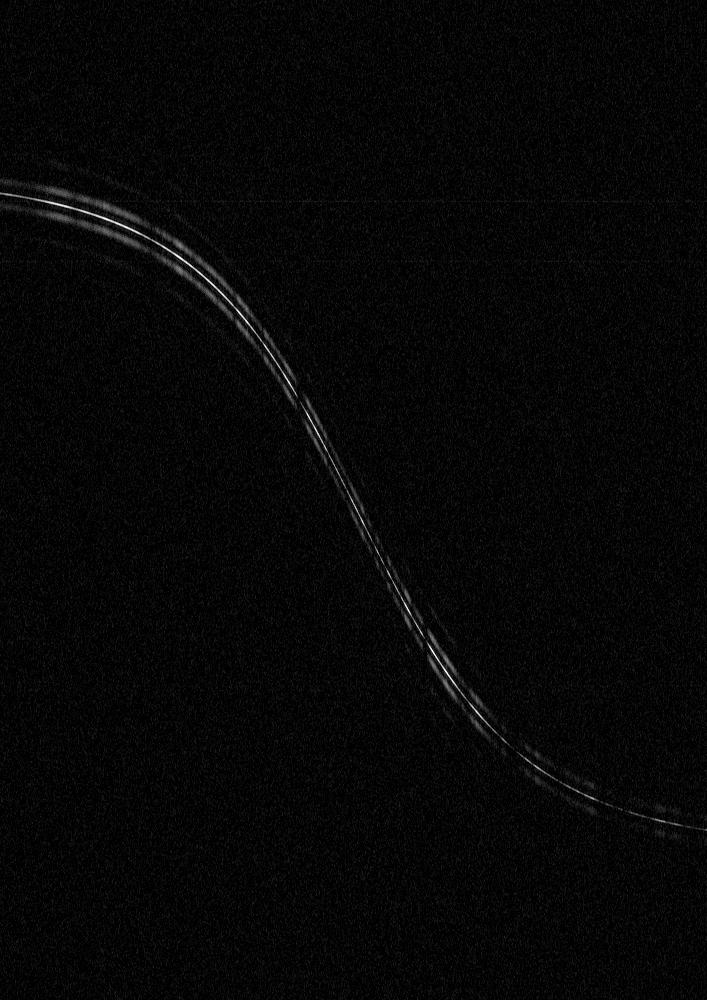signal: (0, 0, 706, 999)
